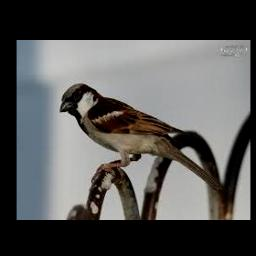Sparrow: (60, 84, 223, 193)
